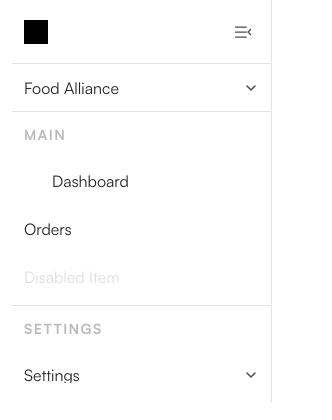
Scenario: SideNavigation — module header (edge case 7) › opens module dropdown on click when moduleHeaderItems are provided
The image size is (332, 420).
Click the button "Food Alliance" at (142, 88), box top-left (12, 64), bottom-right (271, 112)
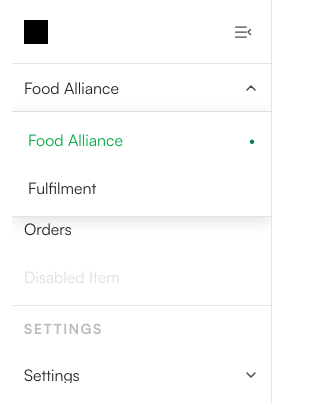
Now the list is shown, box top-left (12, 112), bottom-right (271, 217)
